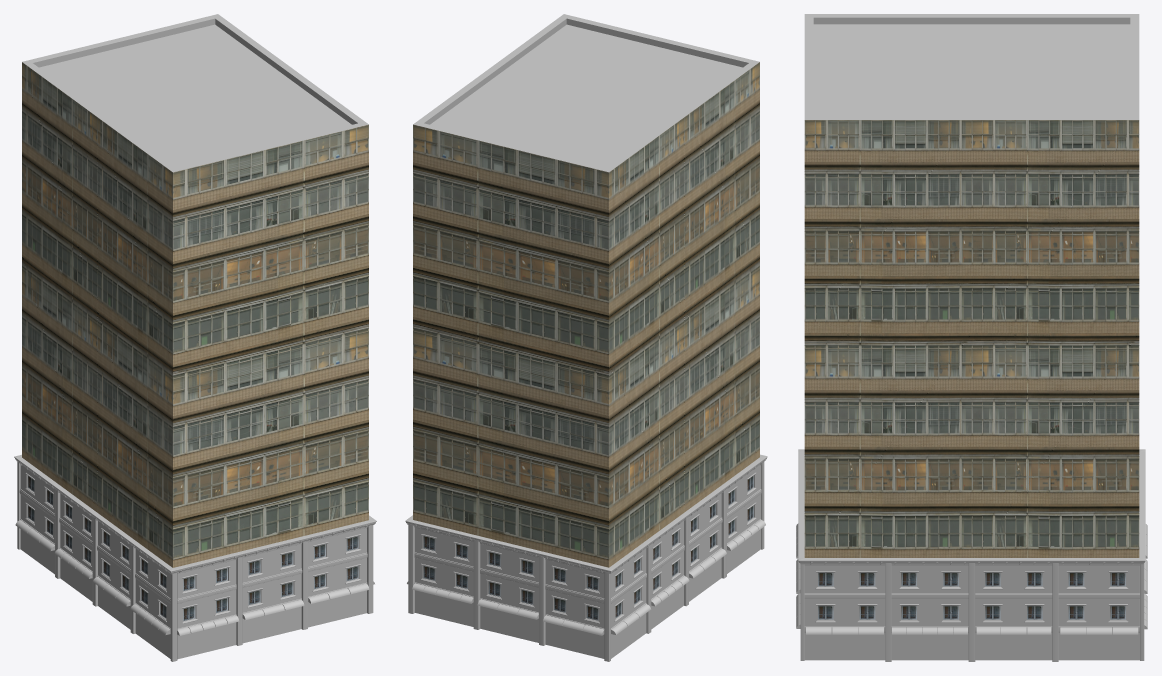
The model's file is High RIse Building 21.fbx.
The picture shows the model from 3 angles, left to right: view 1: azimuth 30°, elevation 25°; view 2: azimuth 150°, elevation 25°; view 3: azimuth 270°, elevation 25°; orthographic projection. The views are drawn at different scales.
Visible parts, largest first — view 1: Top, Part_1, Base; view 2: Top, Part_1, Base; view 3: Top, Part_1, Base.
Part boxes in pixels (x1,y1,x2,y2): Top: (22,14,368,364); Part_1: (22,254,368,567); Base: (14,454,376,661); Top: (413,14,759,364); Part_1: (413,254,759,567); Base: (405,454,767,661); Top: (804,14,1139,332); Part_1: (804,333,1139,557); Base: (796,449,1147,661).
Bounding box in the file's own units: 2563 × 5700 × 3365.
